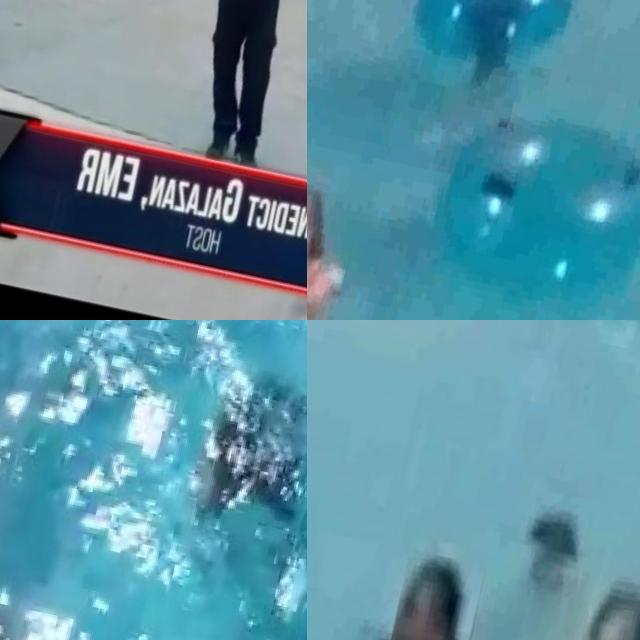drowning: (172, 353, 307, 591), (487, 462, 618, 594), (447, 74, 555, 170)
out of water: (154, 0, 307, 171)
swimming: (378, 535, 487, 640), (307, 171, 383, 320), (560, 596, 640, 640)
